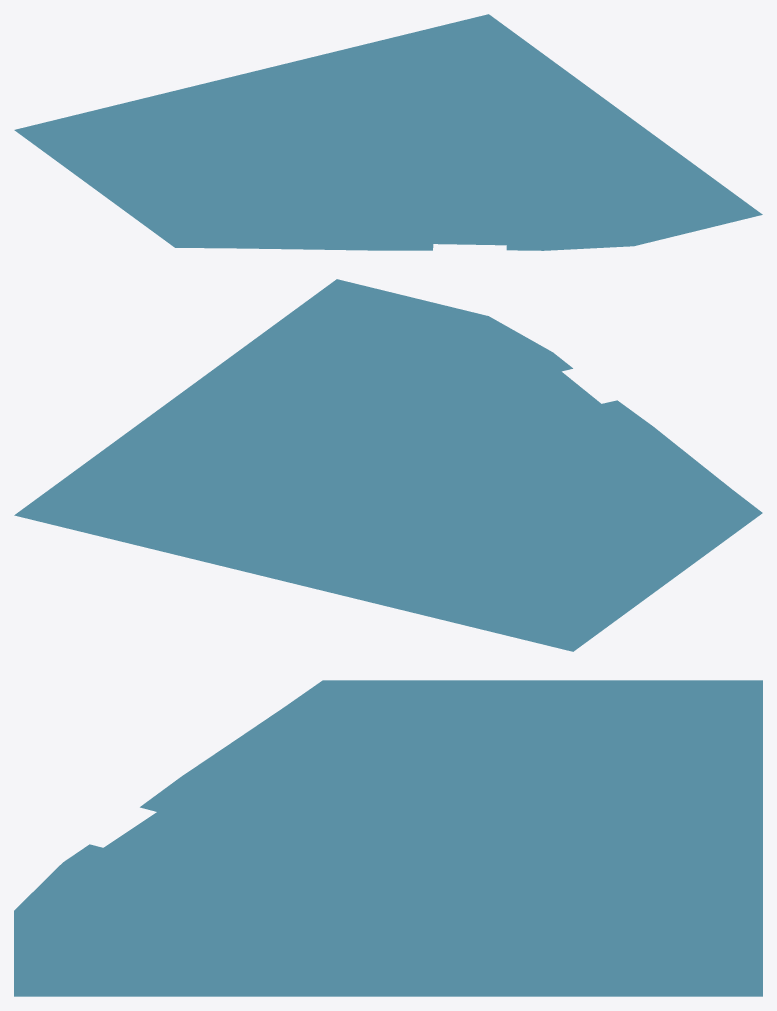
File: nature_8_3.glb
3 views of the same model, one above another, from view 1: azimuth 30°, elevation 25°; view 2: azimuth 150°, elevation 25°; view 3: azimuth 270°, elevation 25° (orthographic). The views are drawn at different scales.
Visible parts, largest first — view 1: water; view 2: water; view 3: water.
Boxes of the visible parts, x1,y1,x2,y2 form: water: (14, 14, 762, 250); water: (14, 279, 762, 651); water: (14, 680, 762, 996).
Bounding box in the file's own units: 250 × 0 × 250.
